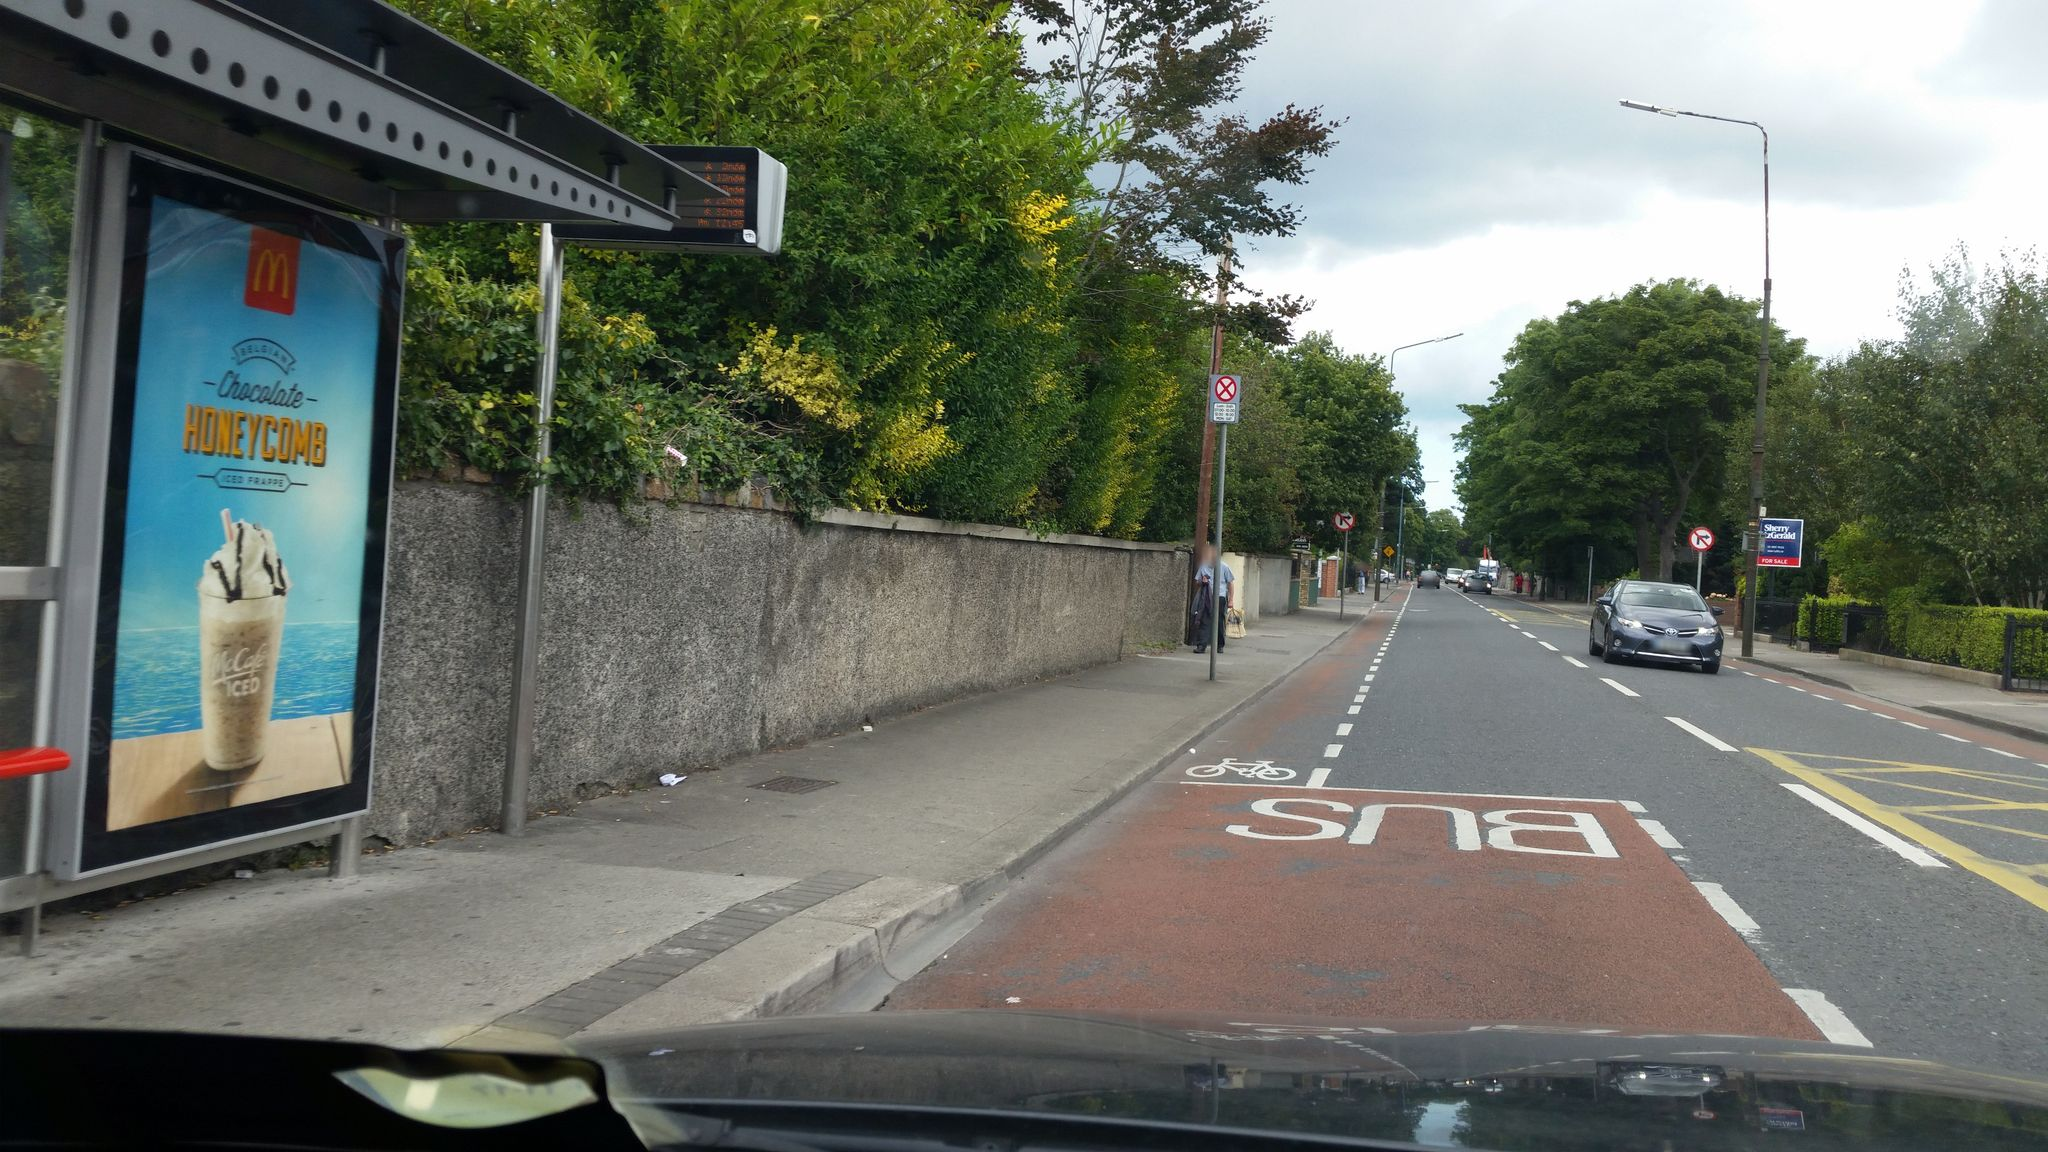property sign: (1748, 495, 1810, 578)
